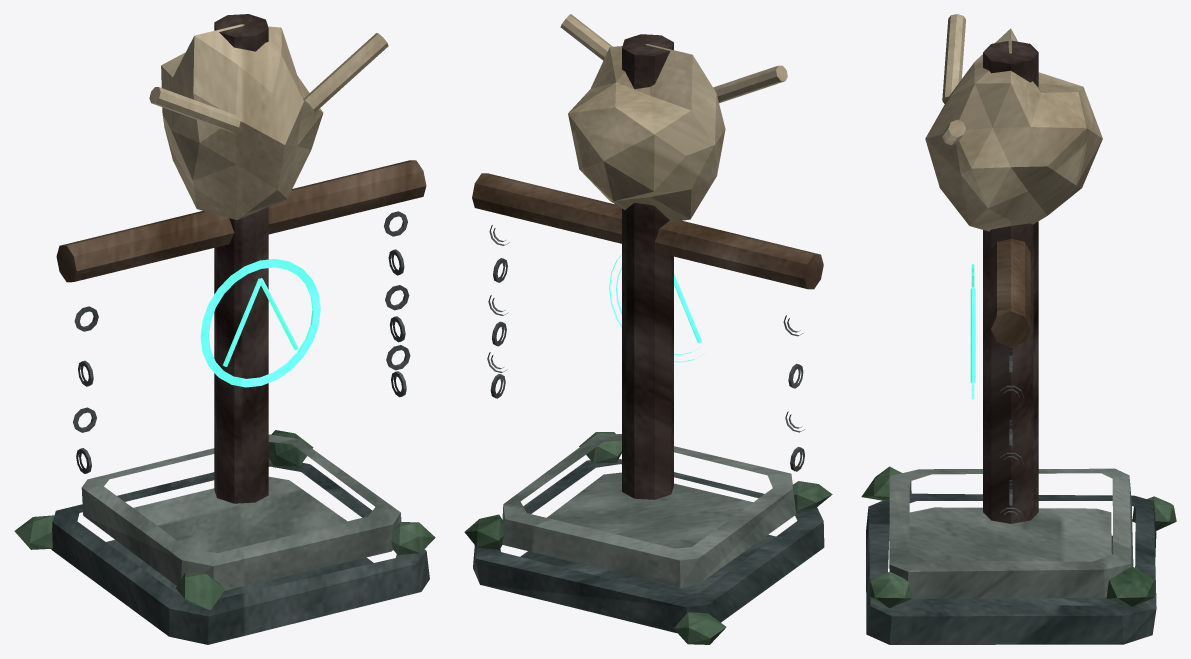
Rendered from 0504_effigy_04.glb.
The picture shows the model from 3 angles, left to right: view 1: azimuth 30°, elevation 25°; view 2: azimuth 150°, elevation 25°; view 3: azimuth 270°, elevation 25°; orthographic projection. The views are drawn at different scales.
Visible parts, largest first — view 1: bone, stone, stone_dark, wood_dark, wood, moss, glow, iron; view 2: stone, bone, stone_dark, wood_dark, wood, moss, iron, glow; view 3: bone, stone, stone_dark, wood_dark, wood, moss, glow, iron.
Boxes of the visible parts, box(x1,y1,x2,y2) form: bone: box(149, 24, 388, 220); stone: box(81, 434, 401, 590); stone_dark: box(51, 459, 429, 644); wood_dark: box(214, 14, 268, 503); wood: box(56, 160, 426, 282); moss: box(14, 430, 435, 610); glow: box(200, 259, 320, 387); iron: box(73, 211, 410, 473); stone: box(502, 434, 796, 588); bone: box(560, 14, 787, 220); stone_dark: box(473, 459, 824, 633); wood_dark: box(622, 34, 673, 499); wood: box(472, 173, 823, 289); moss: box(464, 432, 832, 644); iron: box(487, 225, 804, 471); glow: box(609, 255, 703, 362); bone: box(925, 14, 1102, 231); stone: box(889, 468, 1133, 599); stone_dark: box(866, 493, 1156, 644); wood_dark: box(983, 40, 1038, 523); wood: box(991, 239, 1030, 347); moss: box(861, 466, 1176, 608); glow: box(970, 264, 975, 399); iron: box(998, 347, 1023, 519).
Size of the model in its own units: 2 by 2.98 by 1.59.
Materials: 8 (8 with a texture image).
